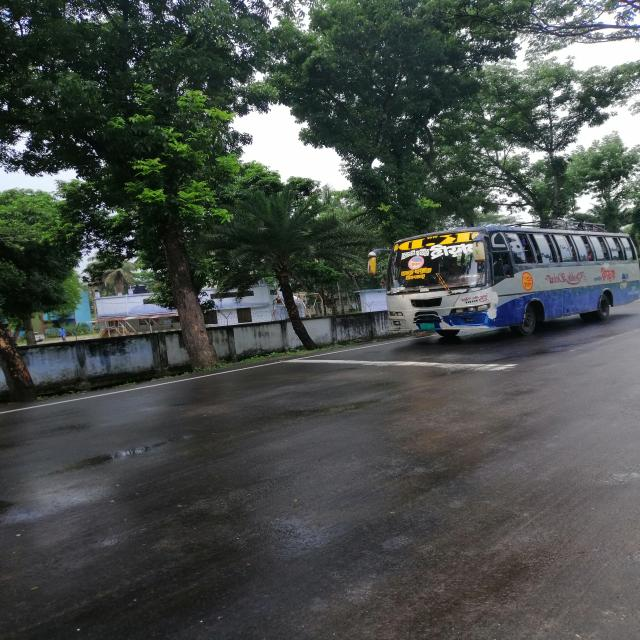Bus: (351, 224, 640, 353)
